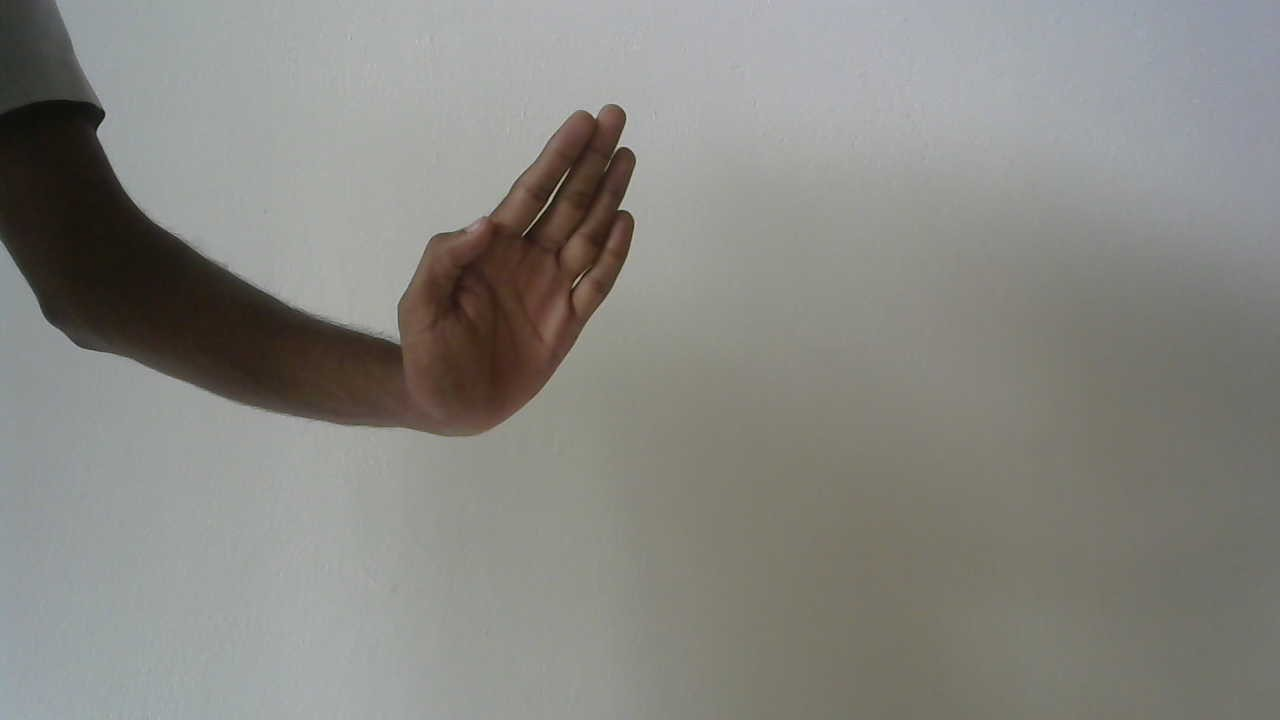hello: (391, 99, 653, 442)
